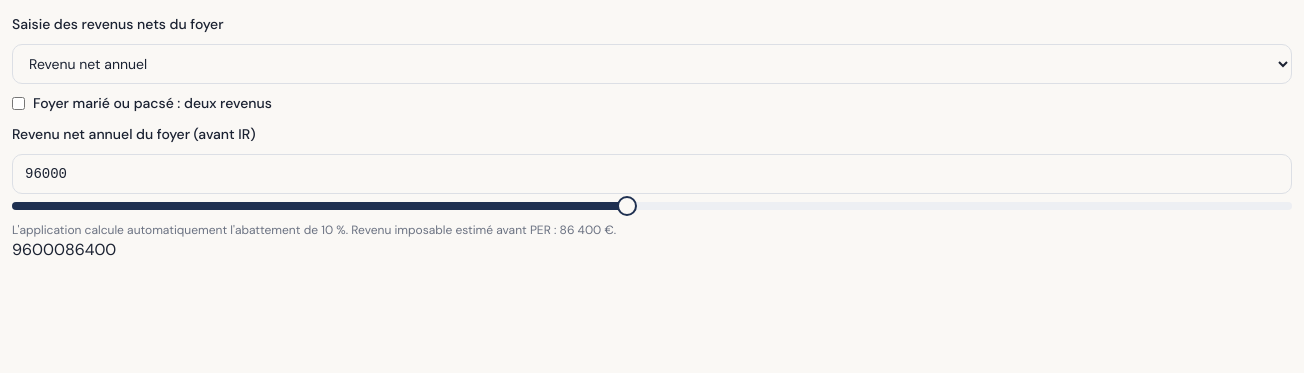
Test: saisit les deux revenus annuels et conserve leur répartition en passant au mensuel
Step 1. Click the checkbox with id "monthly-couple" → (18, 103), box x1=12 y1=96 x2=25 y2=110
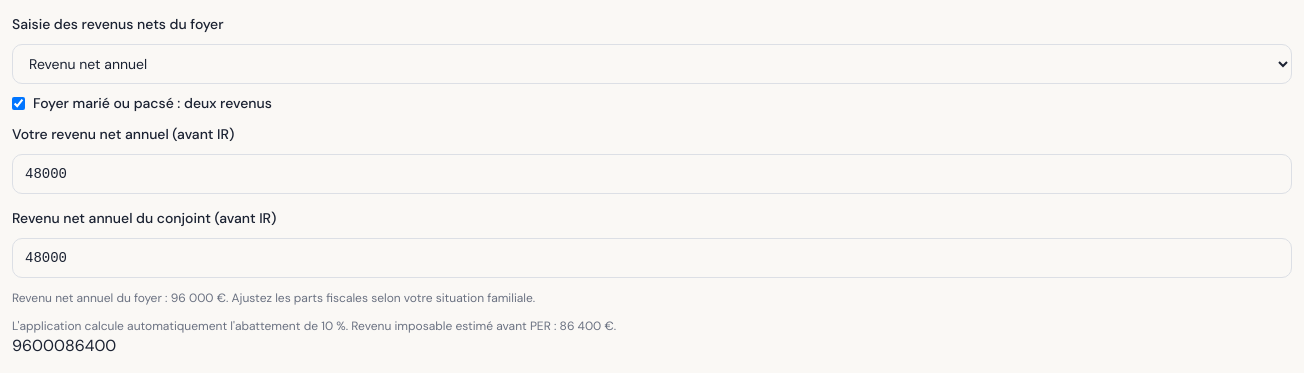
Step 2. Replace the text in the number field with id "monthly-income" with "60000" → (652, 174), box x1=12 y1=154 x2=1292 y2=194
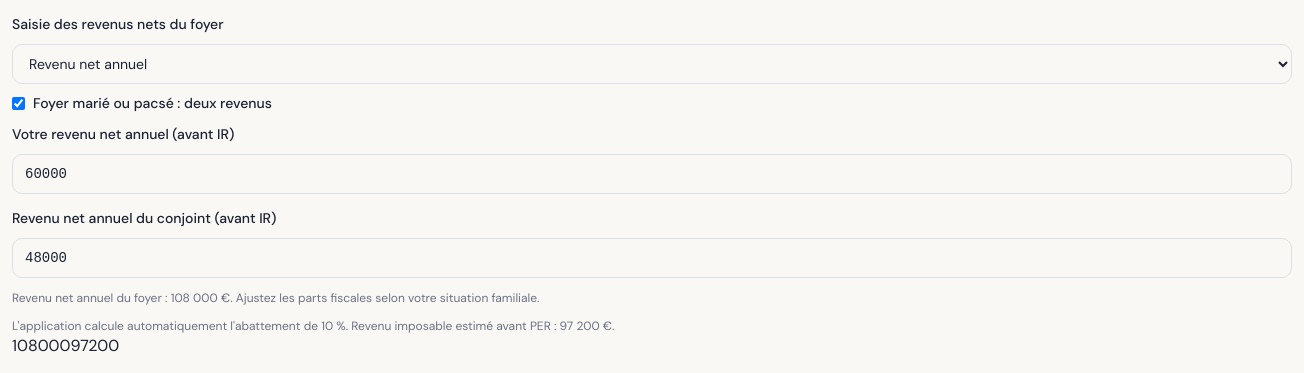
Step 3. Replace the text in the number field with id "spouse-monthly-income" with "30000" → (652, 258), box x1=12 y1=238 x2=1292 y2=278
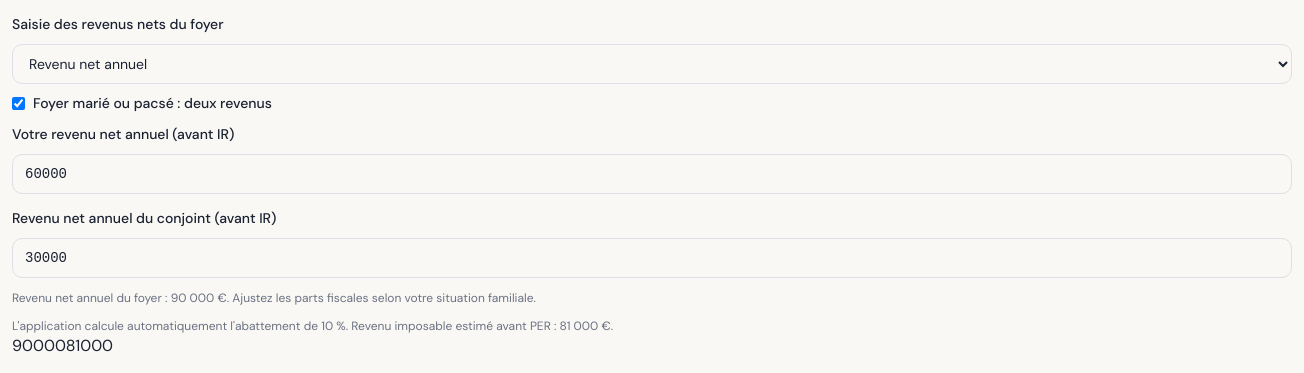
Expected: the text with test id "annual" reads "90000", x1=12 y1=335 x2=66 y2=356
Step 4. Select "Revenus nets mensuels" in the dropdown labelled "Saisie des revenus nets du foyer" → (652, 64), box x1=12 y1=44 x2=1292 y2=84
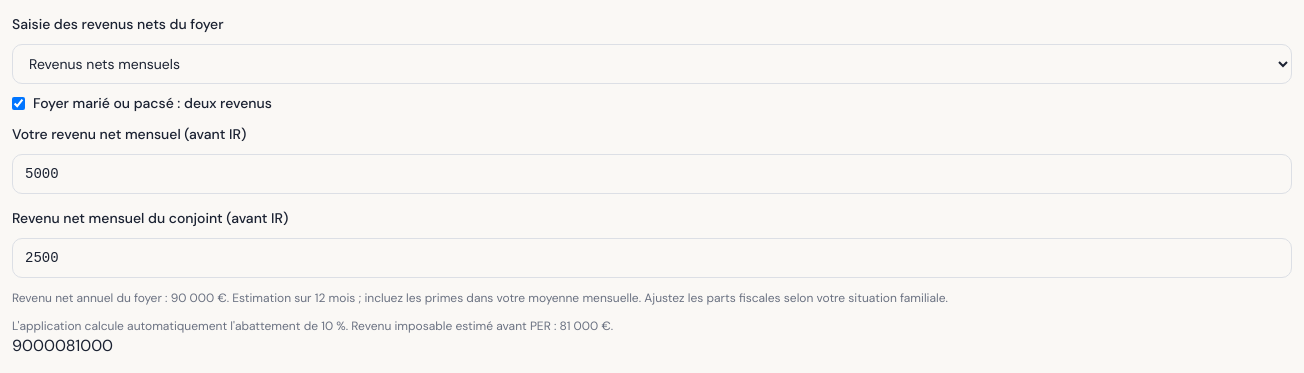
Expected: the text with test id "annual" reads "90000", x1=12 y1=335 x2=66 y2=356
Expected: the number field with id "monthly-income" holds "5000", x1=12 y1=154 x2=1292 y2=194
Expected: the number field with id "spouse-monthly-income" holds "2500", x1=12 y1=238 x2=1292 y2=278
